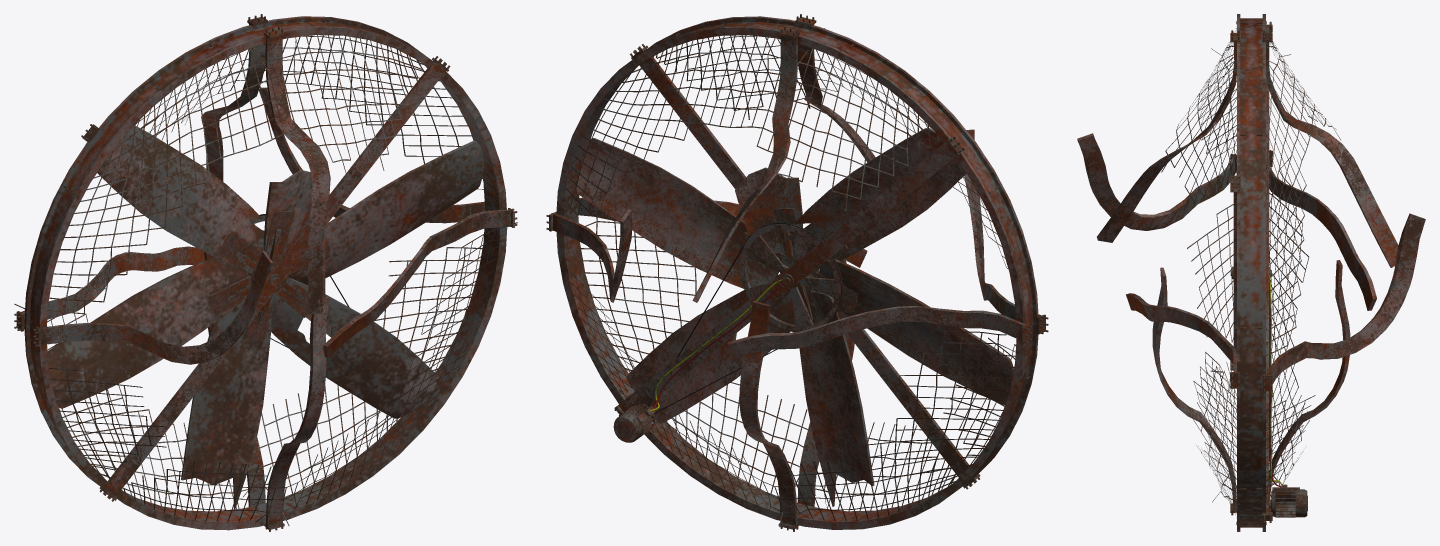
The model's file is ventilateur.glb.
The picture shows the model from 3 angles, left to right: view 1: azimuth 30°, elevation 25°; view 2: azimuth 150°, elevation 25°; view 3: azimuth 270°, elevation 25°; orthographic projection. The views are drawn at different scales.
Visible parts, largest first — view 1: pCylinder108, polySurface12; view 2: pCylinder108, polySurface12, pCylinder104; view 3: pCylinder108, pCylinder104.
Part boxes in pixels (x1=…): pCylinder108: x1=14, y1=14, x2=517, y2=531; polySurface12: x1=47, y1=125, x2=484, y2=510; pCylinder108: x1=546, y1=14, x2=1048, y2=531; polySurface12: x1=577, y1=128, x2=1013, y2=506; pCylinder104: x1=613, y1=404, x2=655, y2=442; pCylinder108: x1=1077, y1=14, x2=1425, y2=531; pCylinder104: x1=1269, y1=484, x2=1307, y2=517.
Size of the model in its own units: 5.66 by 5.6 by 3.7.
Materials: 2 (2 with a texture image).
